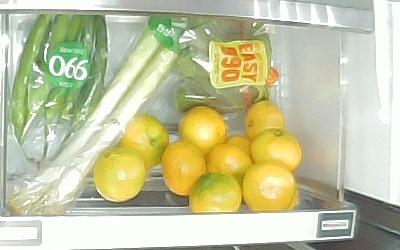tangerine: (92, 146, 146, 202), (118, 114, 169, 168), (243, 161, 295, 210), (161, 142, 208, 196), (249, 128, 302, 171), (179, 106, 225, 155), (207, 143, 254, 188), (189, 173, 241, 211), (244, 100, 284, 141), (226, 134, 253, 158)
